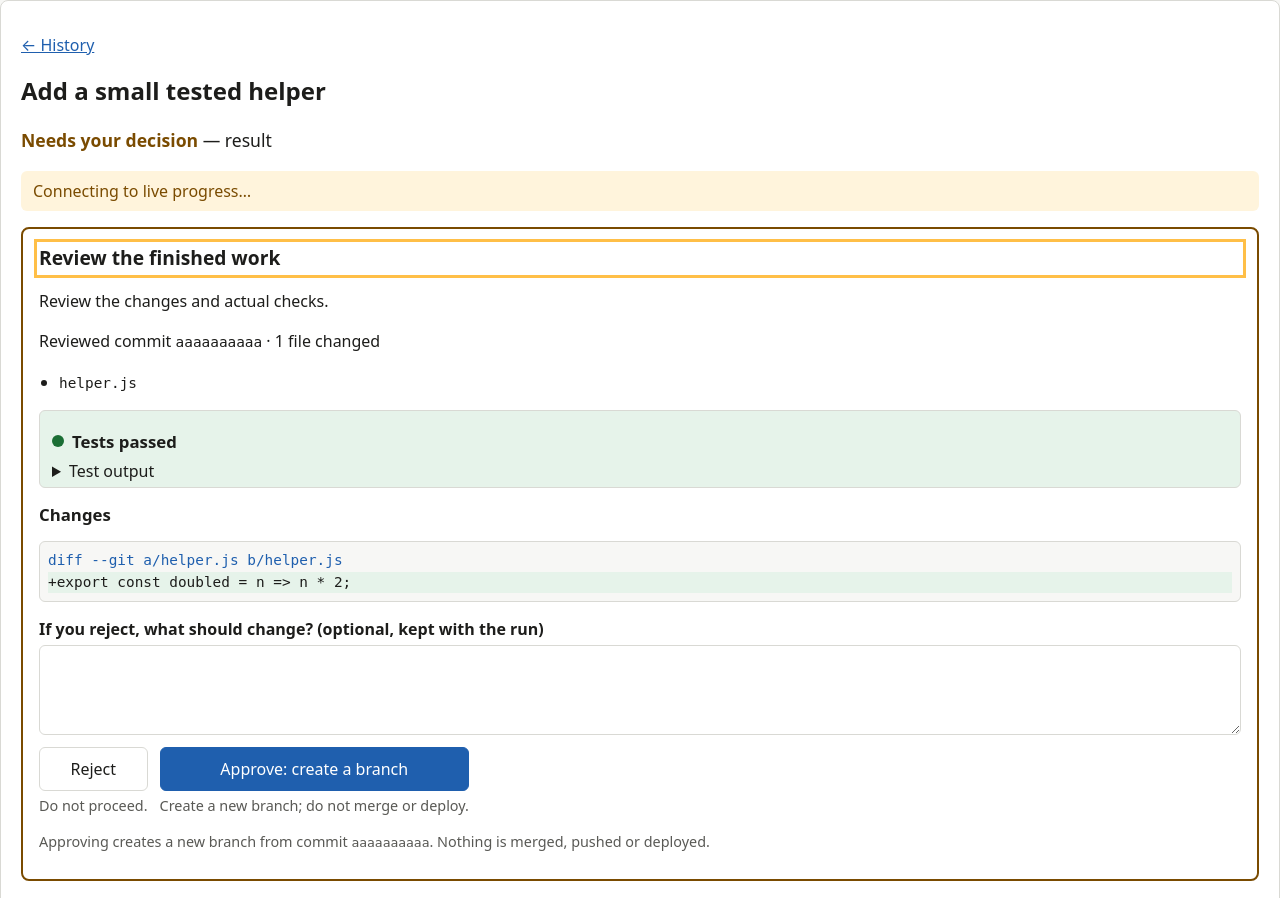
Test case: result decision › approve is unavailable until the exact reviewed evidence is shown, then sends revision, commit and a request id once
Check: the heading "Tests passed" is shown, box [52, 430, 177, 453]
Check: the text "Nothing is merged, pushed or deployed" is shown, box [430, 832, 710, 851]
Click the button "Approve: create a branch".
click(314, 769)  # box [160, 747, 469, 791]
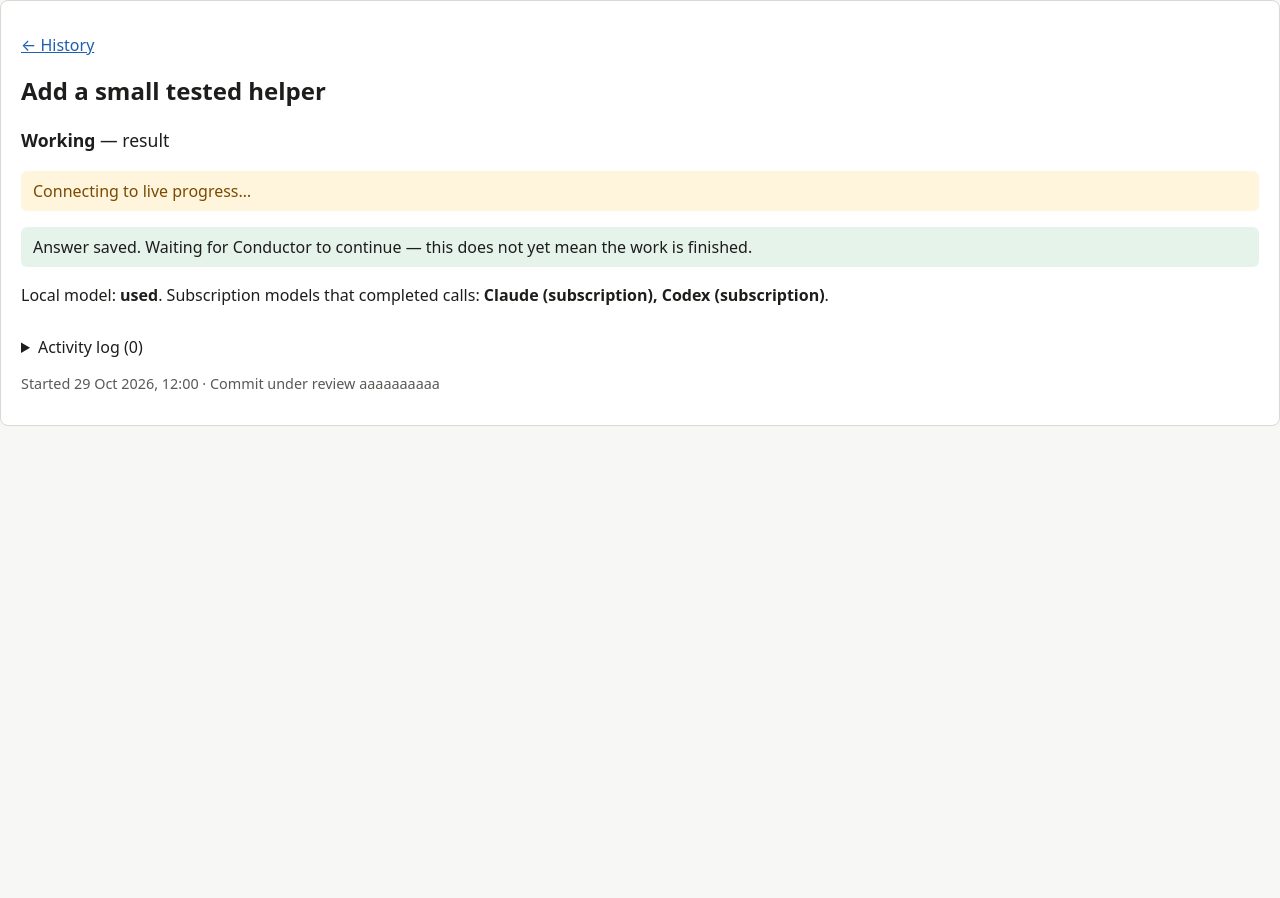
Check: the text "Answer saved. Waiting for Conductor to continue — this does not yet mean the work is finished." is shown, box [33, 236, 752, 258]
